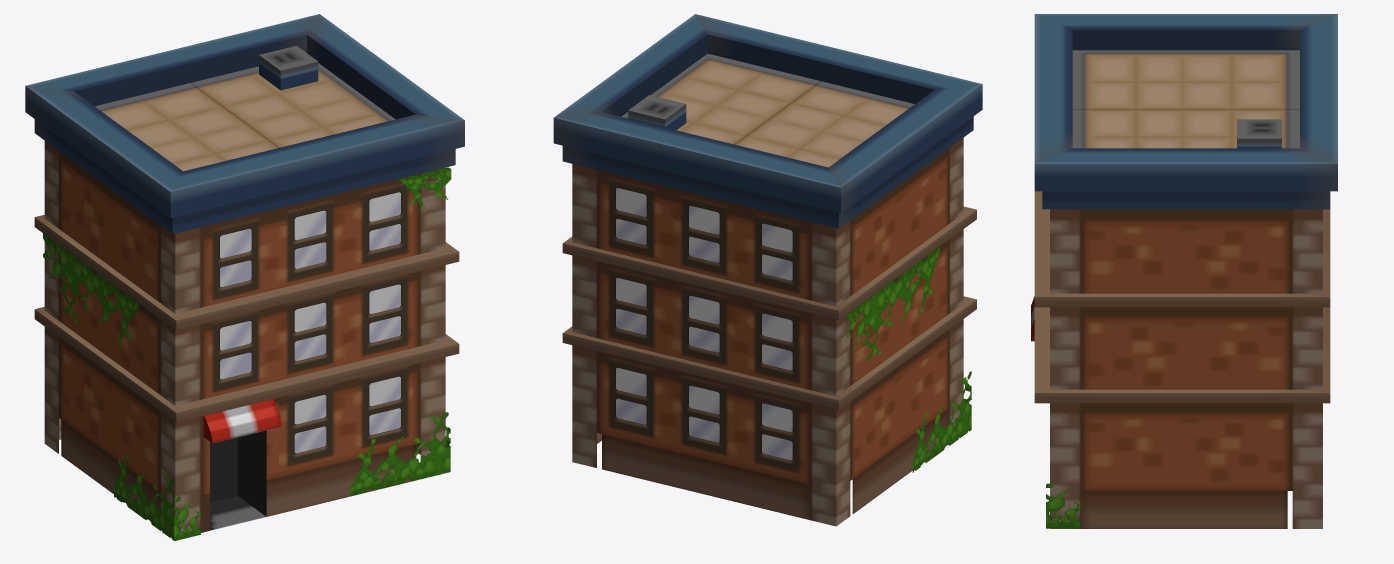
File: house_2.obj
3 views of the same model, side by side, from view 1: azimuth 30°, elevation 25°; view 2: azimuth 150°, elevation 25°; view 3: azimuth 270°, elevation 25° (orthographic). The views are drawn at different scales.
Visible parts, largest first — view 1: house_2; view 2: house_2; view 3: house_2.
Boxes of the visible parts, x1=… form: house_2: x1=25, y1=14, x2=464, y2=540; house_2: x1=553, y1=14, x2=982, y2=526; house_2: x1=1031, y1=14, x2=1337, y2=528.
Size of the model in its own units: 0.945 by 1.02 by 0.9112.
Materials: 1 (1 with a texture image).
